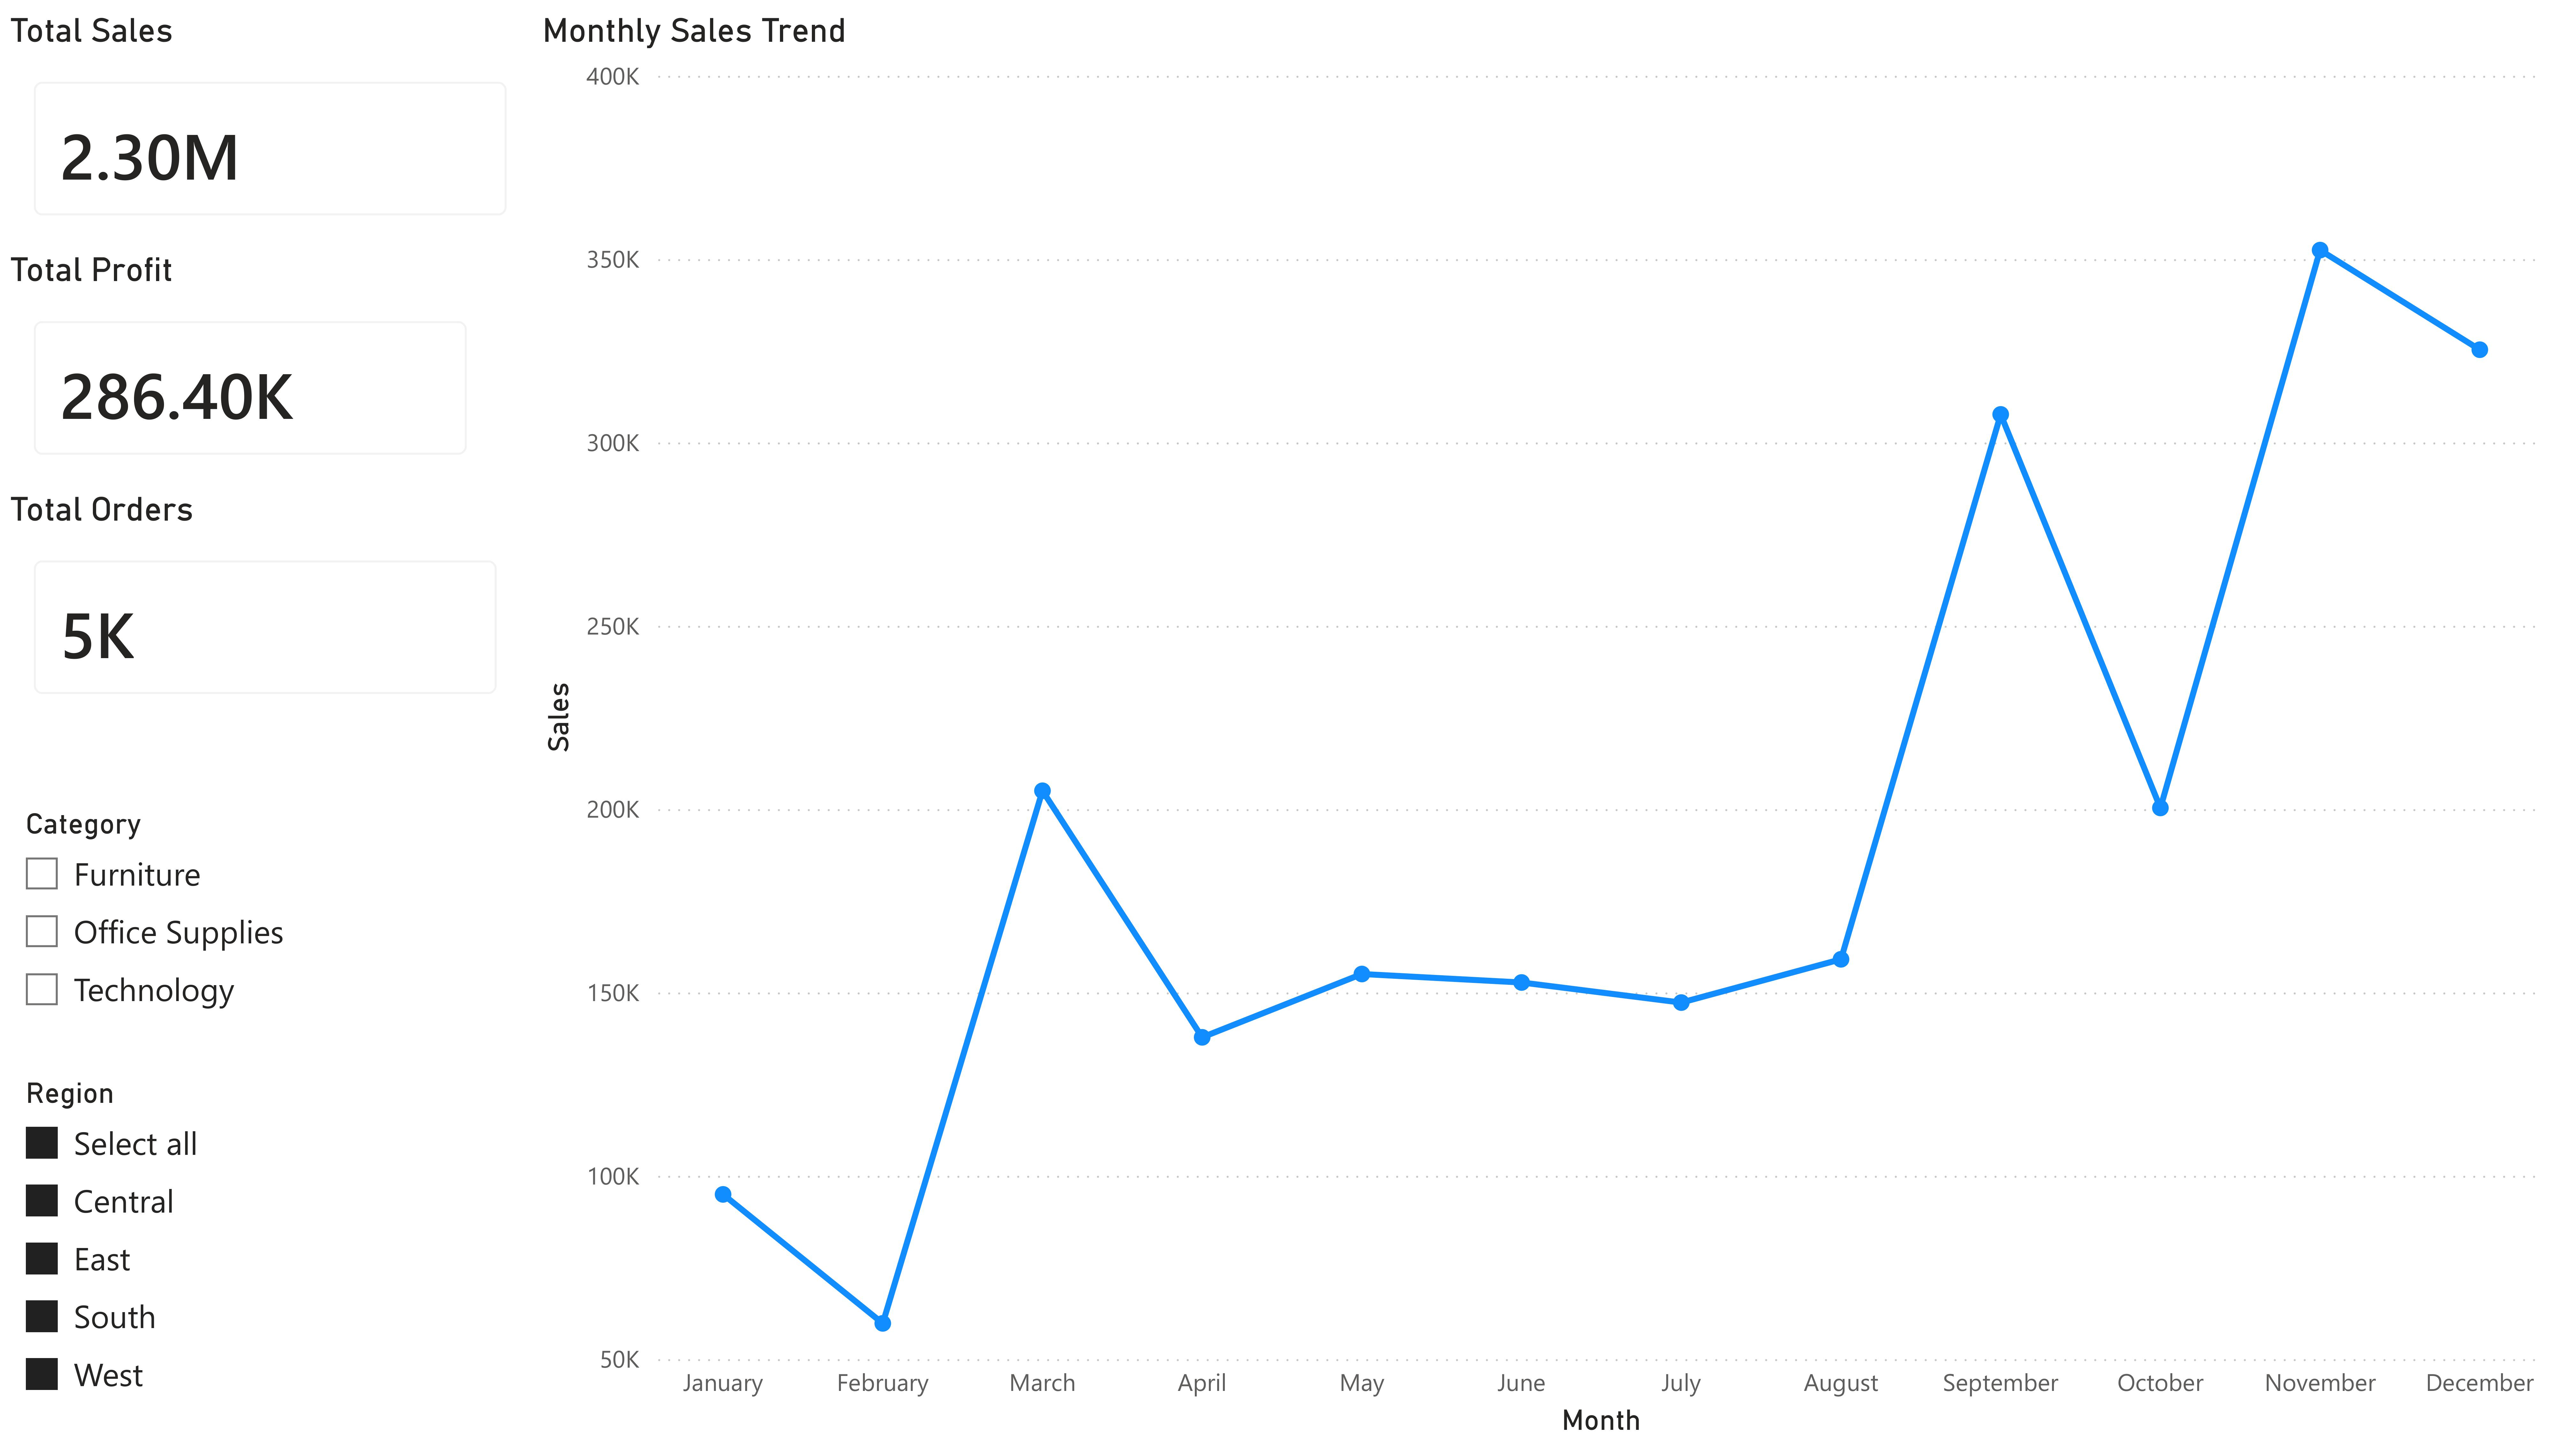

The dashboard page shown, as its layout file describes it:
{"tool":"powerbi","page":{"name":"Overview","canvas":[1280,720],"ordinal":0},"visuals":[{"type":"cardVisual","title":"Total Sales","fields":{"Data":["Sum(superstore_sales_cleaned.sales)"]},"box":[0,0,271.7,120],"z":0},{"type":"cardVisual","title":"Total Profit","fields":{"Data":["Sum(superstore_sales_cleaned.profit)"]},"box":[0,120,251.7,120],"z":1000},{"type":"cardVisual","title":"Total Orders","fields":{"Data":["Count(superstore_sales_cleaned.order_id)"]},"box":[0,240,266.7,120],"z":2000},{"type":"lineChart","title":"Monthly Sales Trend","fields":{"Y":["Sum(superstore_sales_cleaned.sales)"],"Category":["superstore_sales_cleaned.order_date.Variation.Date Hierarchy.Month"]},"box":[266.7,0,1013.3,720],"z":3000},{"type":"slicer","title":"Region","fields":{"Values":["superstore_sales_cleaned.region"]},"box":[0,530,266.7,190],"z":4000},{"type":"slicer","fields":{"Values":["superstore_sales_cleaned.category"]},"box":[0,395,251.7,135],"z":5000}]}

Visuals, with their boxes in screenshot pixels (x1, y1, x2, y2), scaled from the page's 1280x720 canvas onto the 2553x1456 screenshot:
"Total Sales" cardVisual: rect(0, 0, 542, 243)
"Total Profit" cardVisual: rect(0, 243, 502, 485)
"Total Orders" cardVisual: rect(0, 485, 532, 728)
"Monthly Sales Trend" lineChart: rect(532, 0, 2553, 1456)
"Region" slicer: rect(0, 1072, 532, 1456)
slicer - superstore_sales_cleaned.category: rect(0, 799, 502, 1072)
